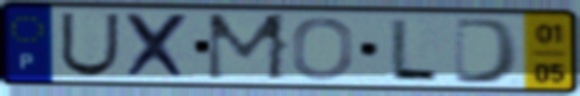D: (451, 16, 524, 86)
L: (385, 16, 442, 84)
M: (203, 12, 292, 84)
O: (289, 15, 357, 82)
U: (57, 10, 123, 79)
X: (123, 11, 193, 81)
